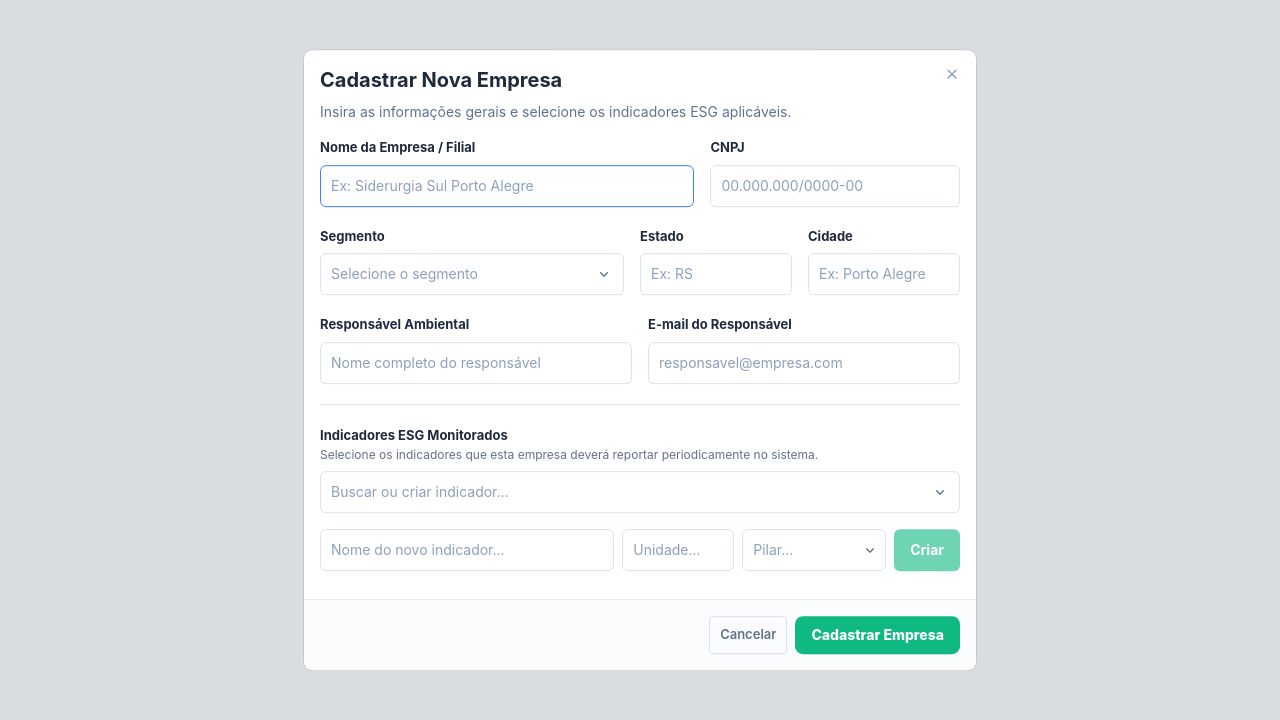
it: NewCompanyModal validation › lists every required field and submits nothing when the form is empty
Click the button "Cadastrar Empresa": (878, 635) [795,616,960,654]
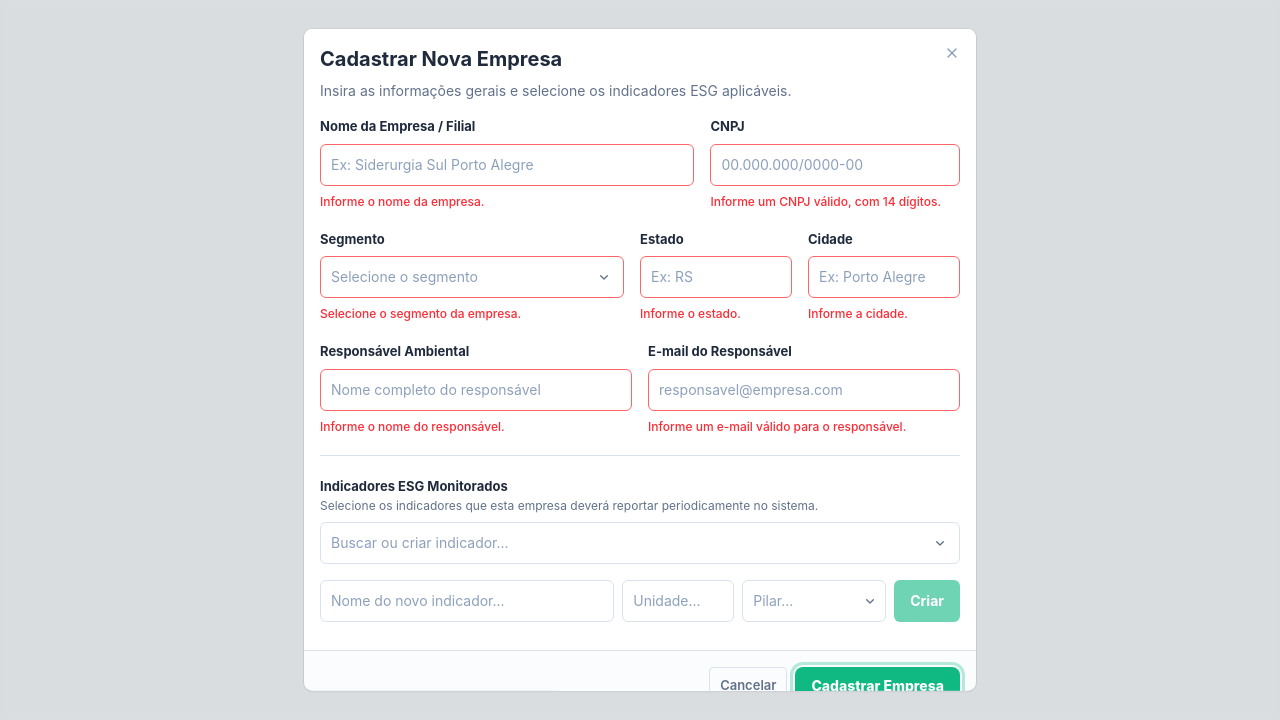
Now the text "Informe o nome da empresa." is shown, box [320,193,484,208]
Now the text "Informe um CNPJ válido, com 14 dígitos." is shown, box [710,193,960,209]
Now the text "Selecione o segmento da empresa." is shown, box [320,306,521,321]
